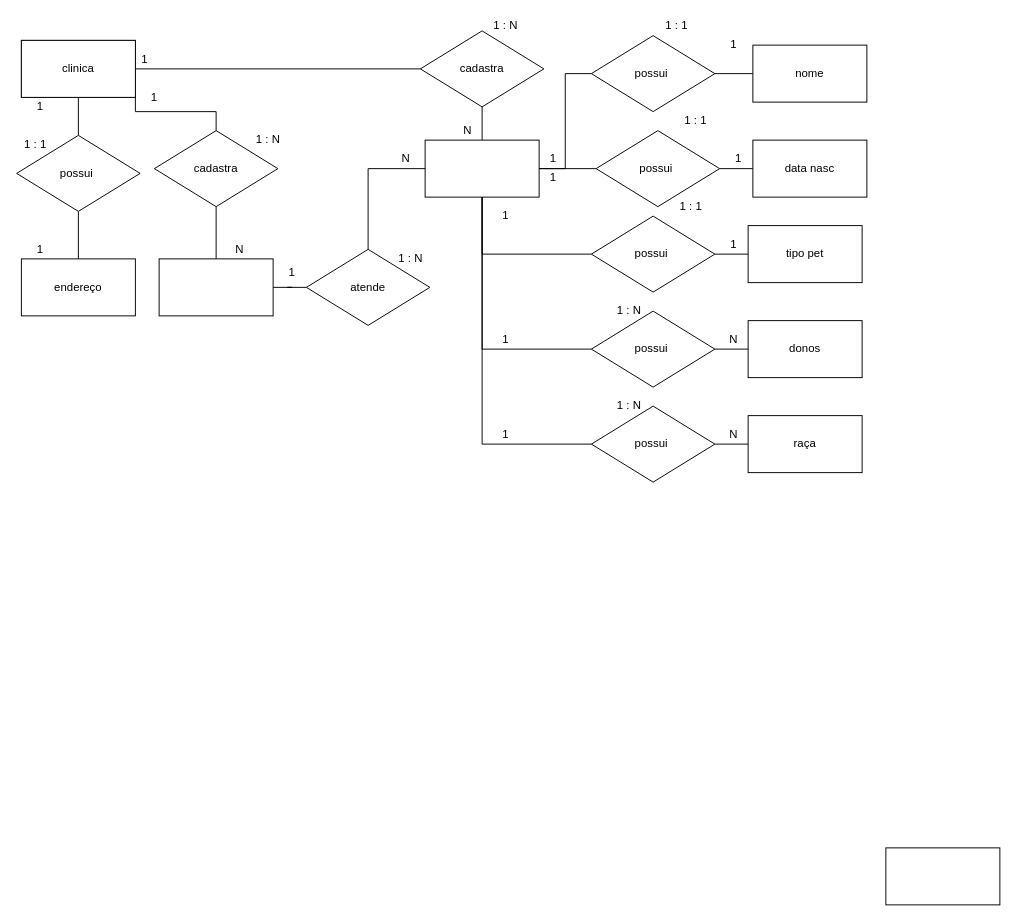
The diagram is 1017 pixels wide and 922 high, and some of its shapes have lost their labels. The shapes that lost their labels are listed below. From the top down, each one's centre as x and y in pixels, then its label:
At (x=481, y=168): "pets".
At (x=215, y=287): "veterinarios".
